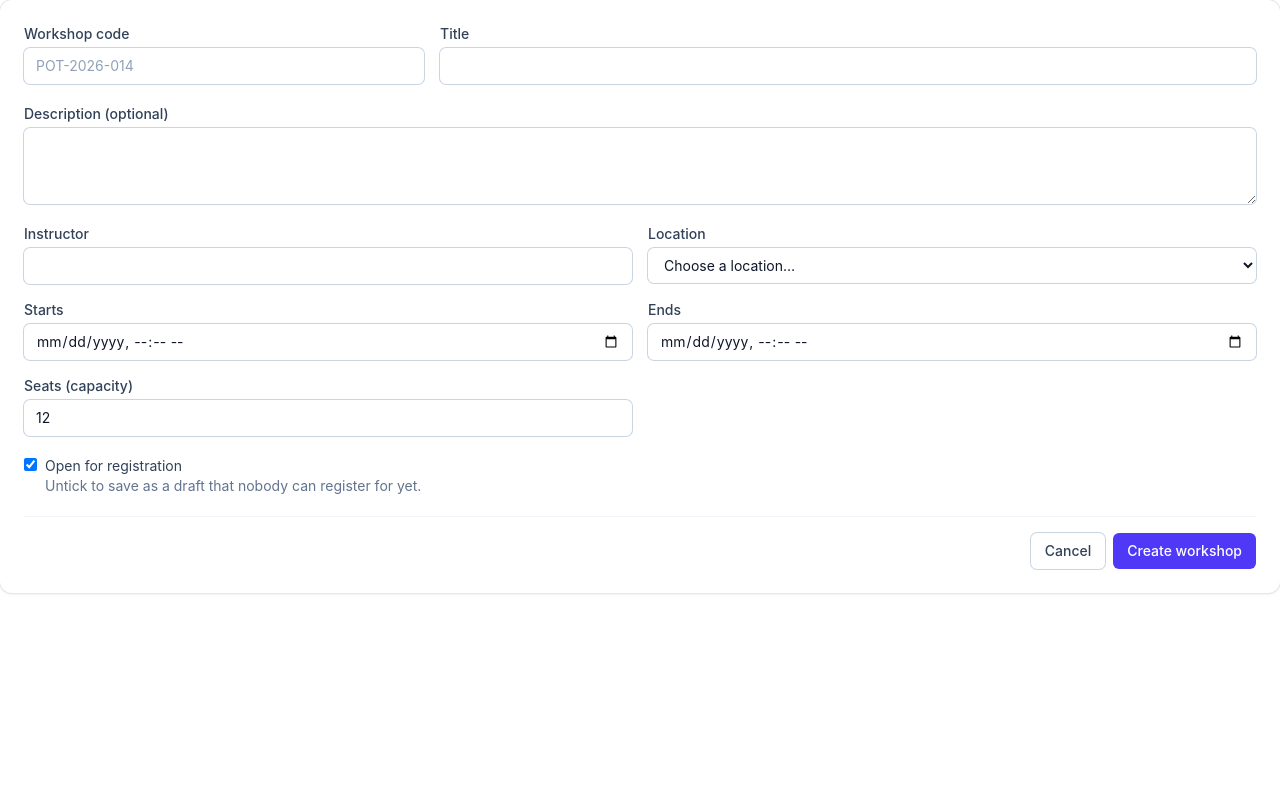
Test: WorkshopForm › rejects an end time that is not after the start time
Type "pot-1" into the field labelled "Workshop code" at (224, 66), box [24,48,424,84]
Type "Pottery" into the field labelled "Title" at (848, 66), box [440,48,1256,84]
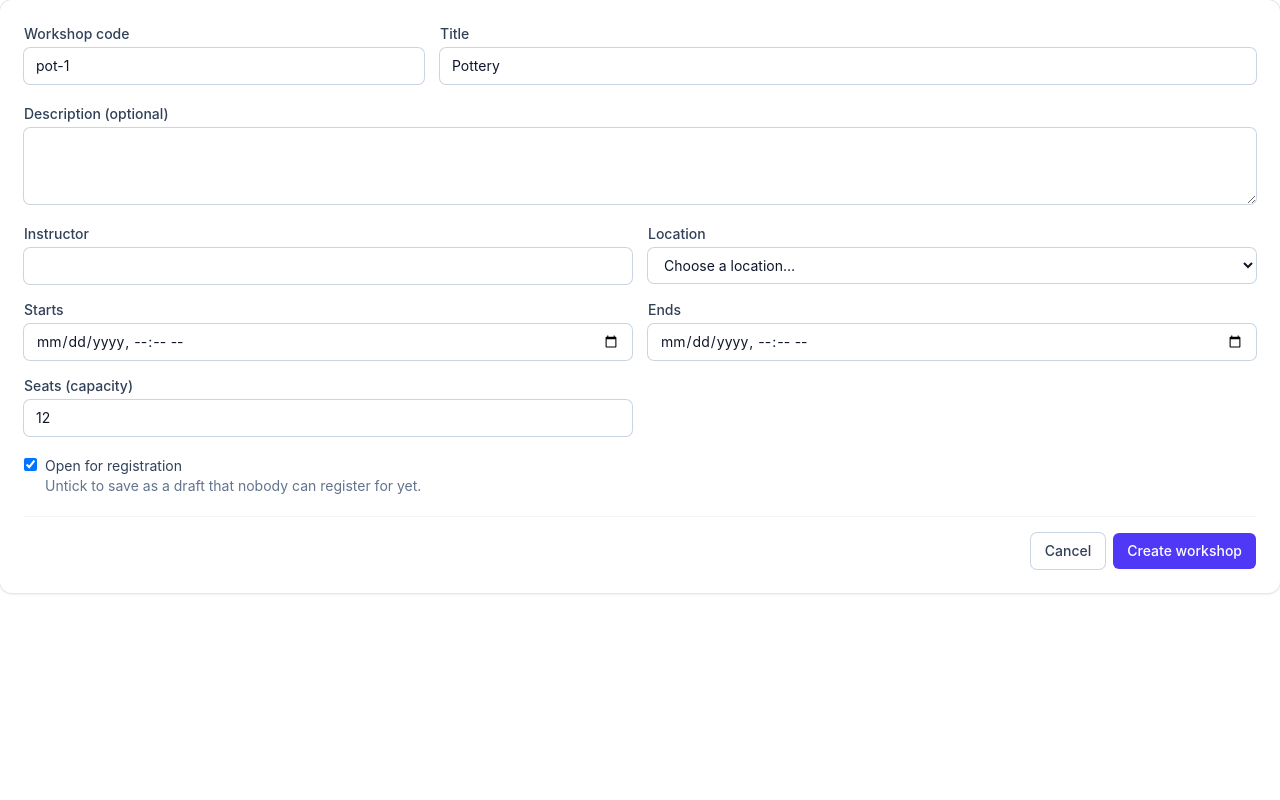
Type "Ada" into the field labelled "Instructor" at (328, 266), box [24,248,632,284]
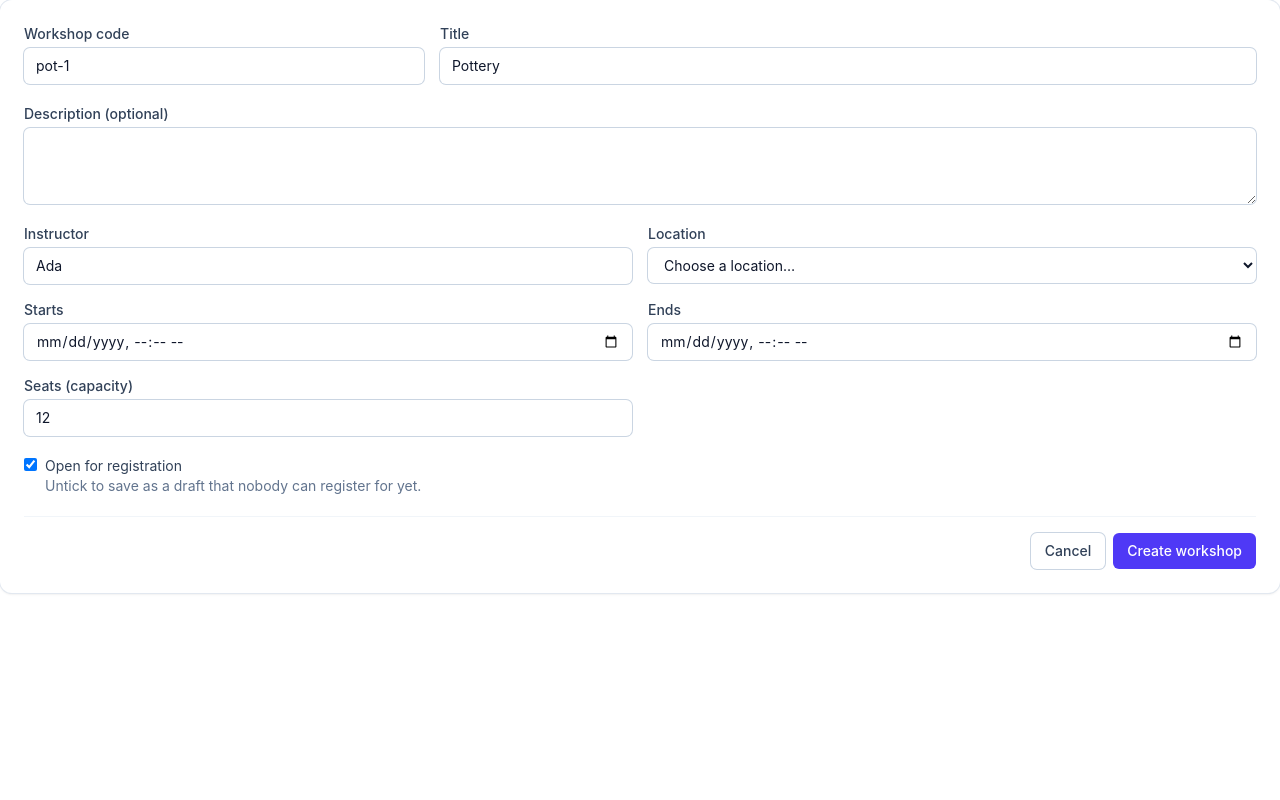
Select "Harbour Studio" in the dropdown labelled "Location" at (952, 266), box [648,248,1256,283]
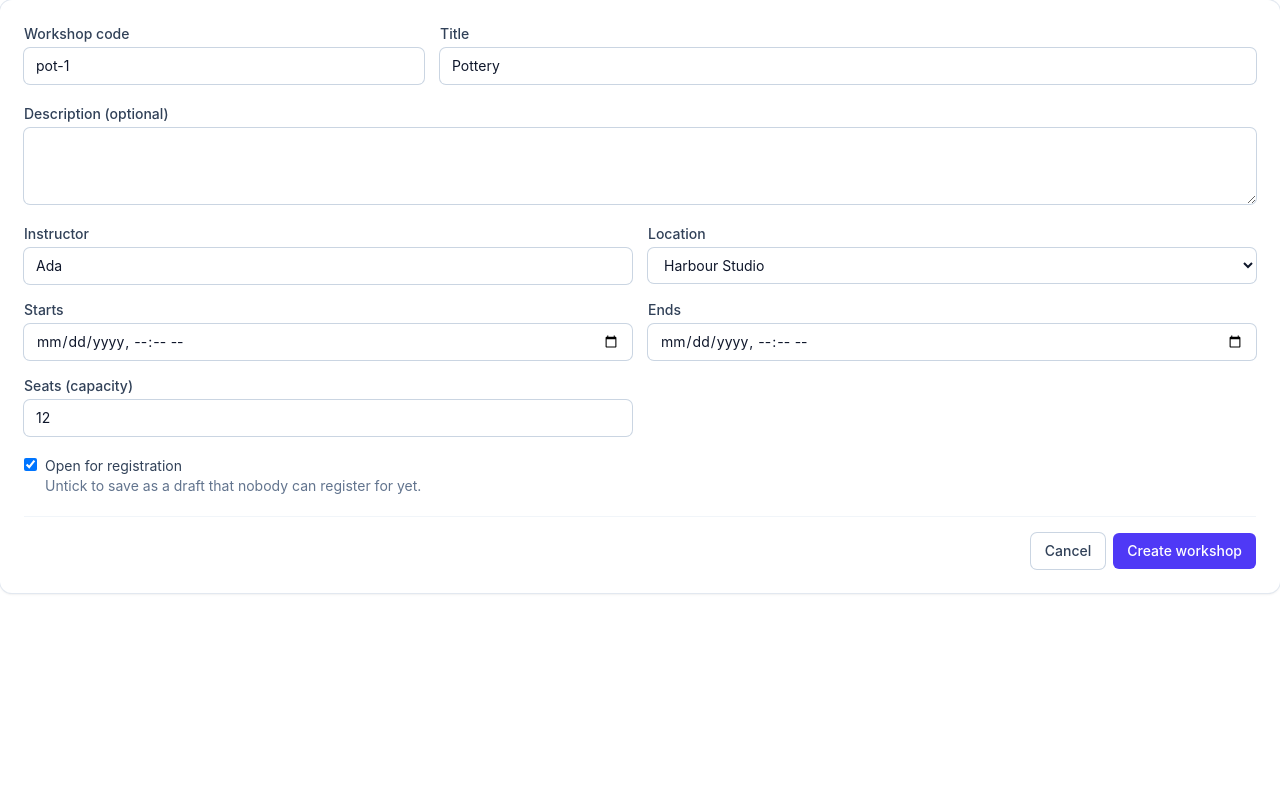
Type "2030-05-01T10:00" into the field labelled "Starts" at (328, 342), box [24,324,632,360]
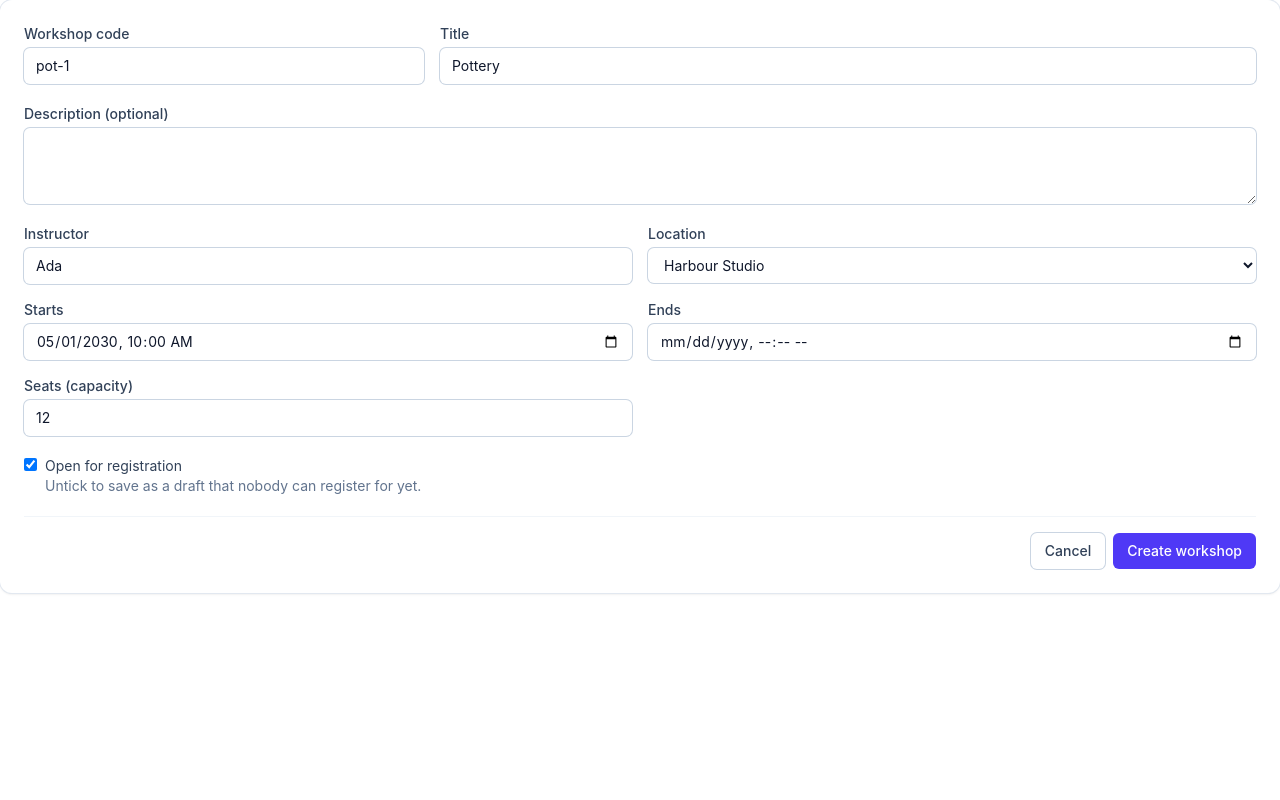
Type "2030-05-01T09:00" into the field labelled "Ends" at (952, 342), box [648,324,1256,360]
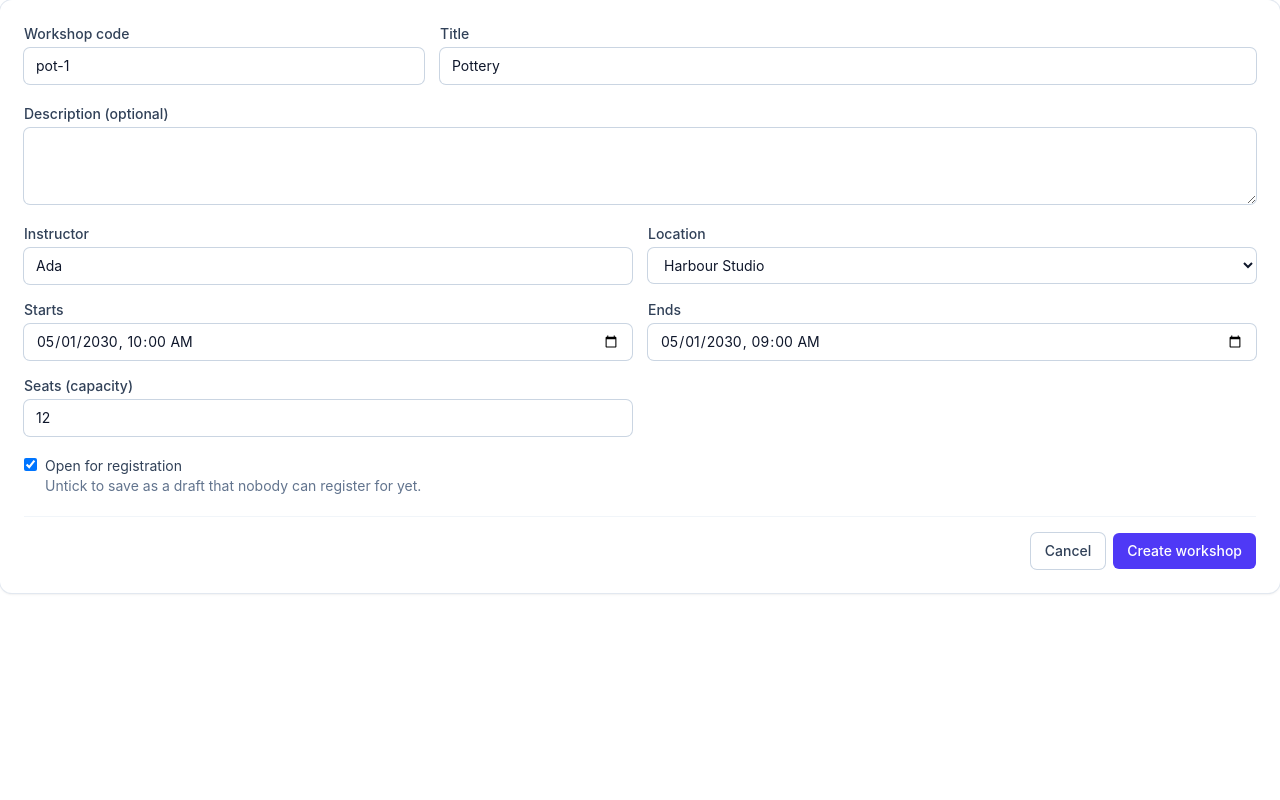
Click the button "Create workshop" at (1185, 551), box [1113,533,1256,569]
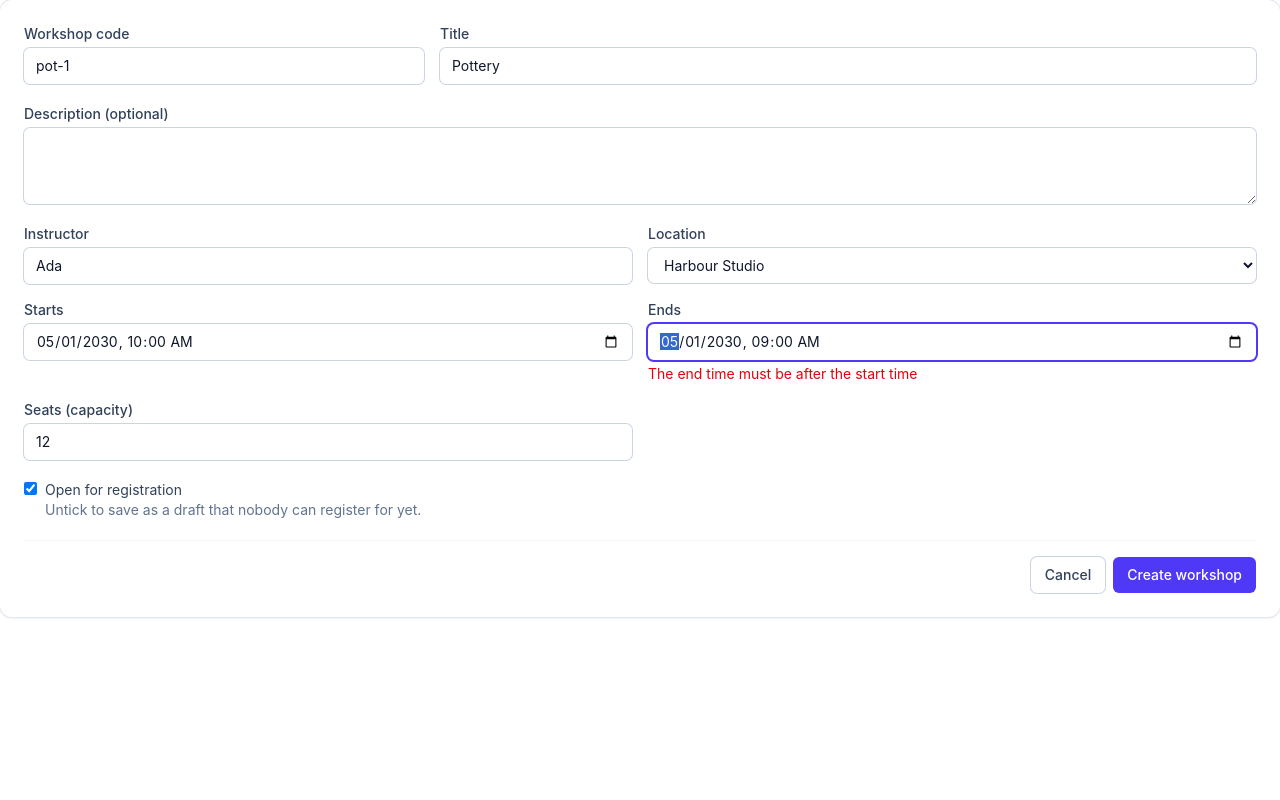
Now the text "The end time must be after the start time" is shown, box [648,365,918,382]
